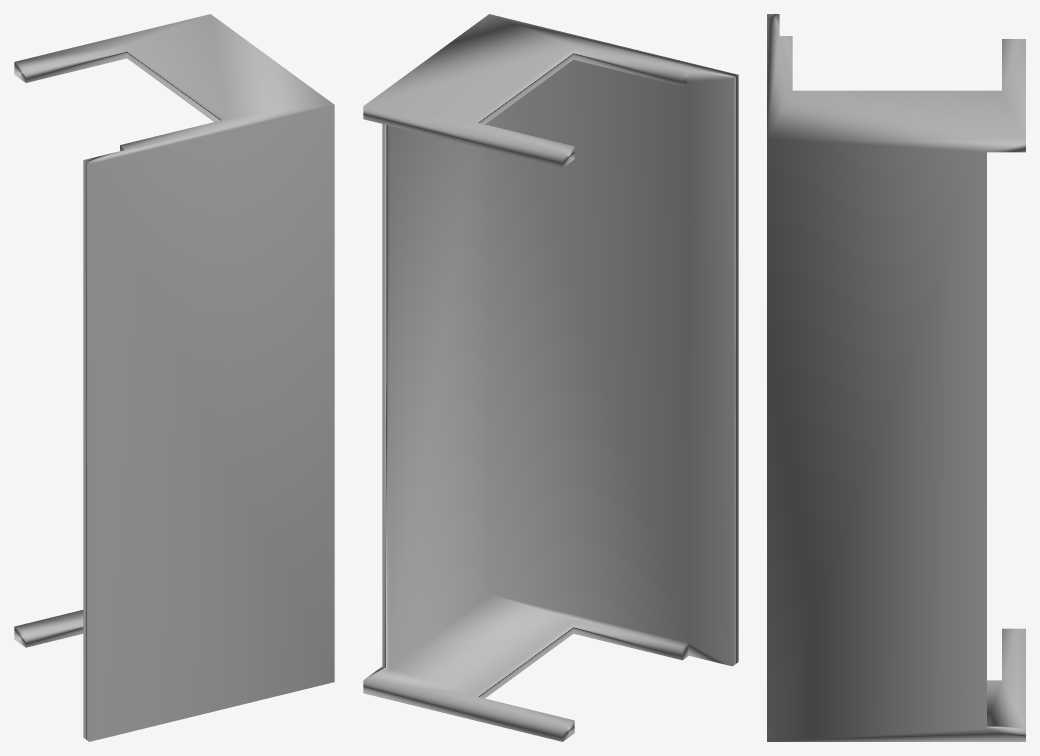
File: console.dae
3 views of the same model, side by side, from view 1: azimuth 30°, elevation 25°; view 2: azimuth 150°, elevation 25°; view 3: azimuth 270°, elevation 25° (orthographic). The views are drawn at different scales.
Parts seen in each view (by area): view 1: transform1; view 2: transform1; view 3: transform1.
Boxes of the visible parts, x1,y1,x2,y2 form: transform1: [14, 14, 334, 741]; transform1: [363, 14, 738, 741]; transform1: [767, 14, 1025, 741].
Size of the model in its own units: 0.8 by 1.8 by 0.7.
Materials: 1 (1 with a texture image).
